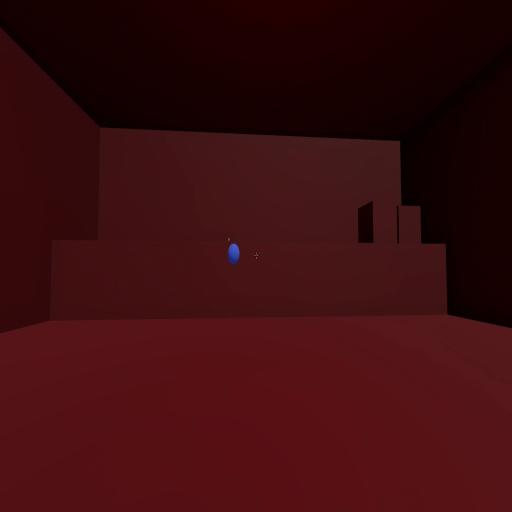Crosshair: (254, 252, 258, 260)
Target: (228, 242, 240, 265)
